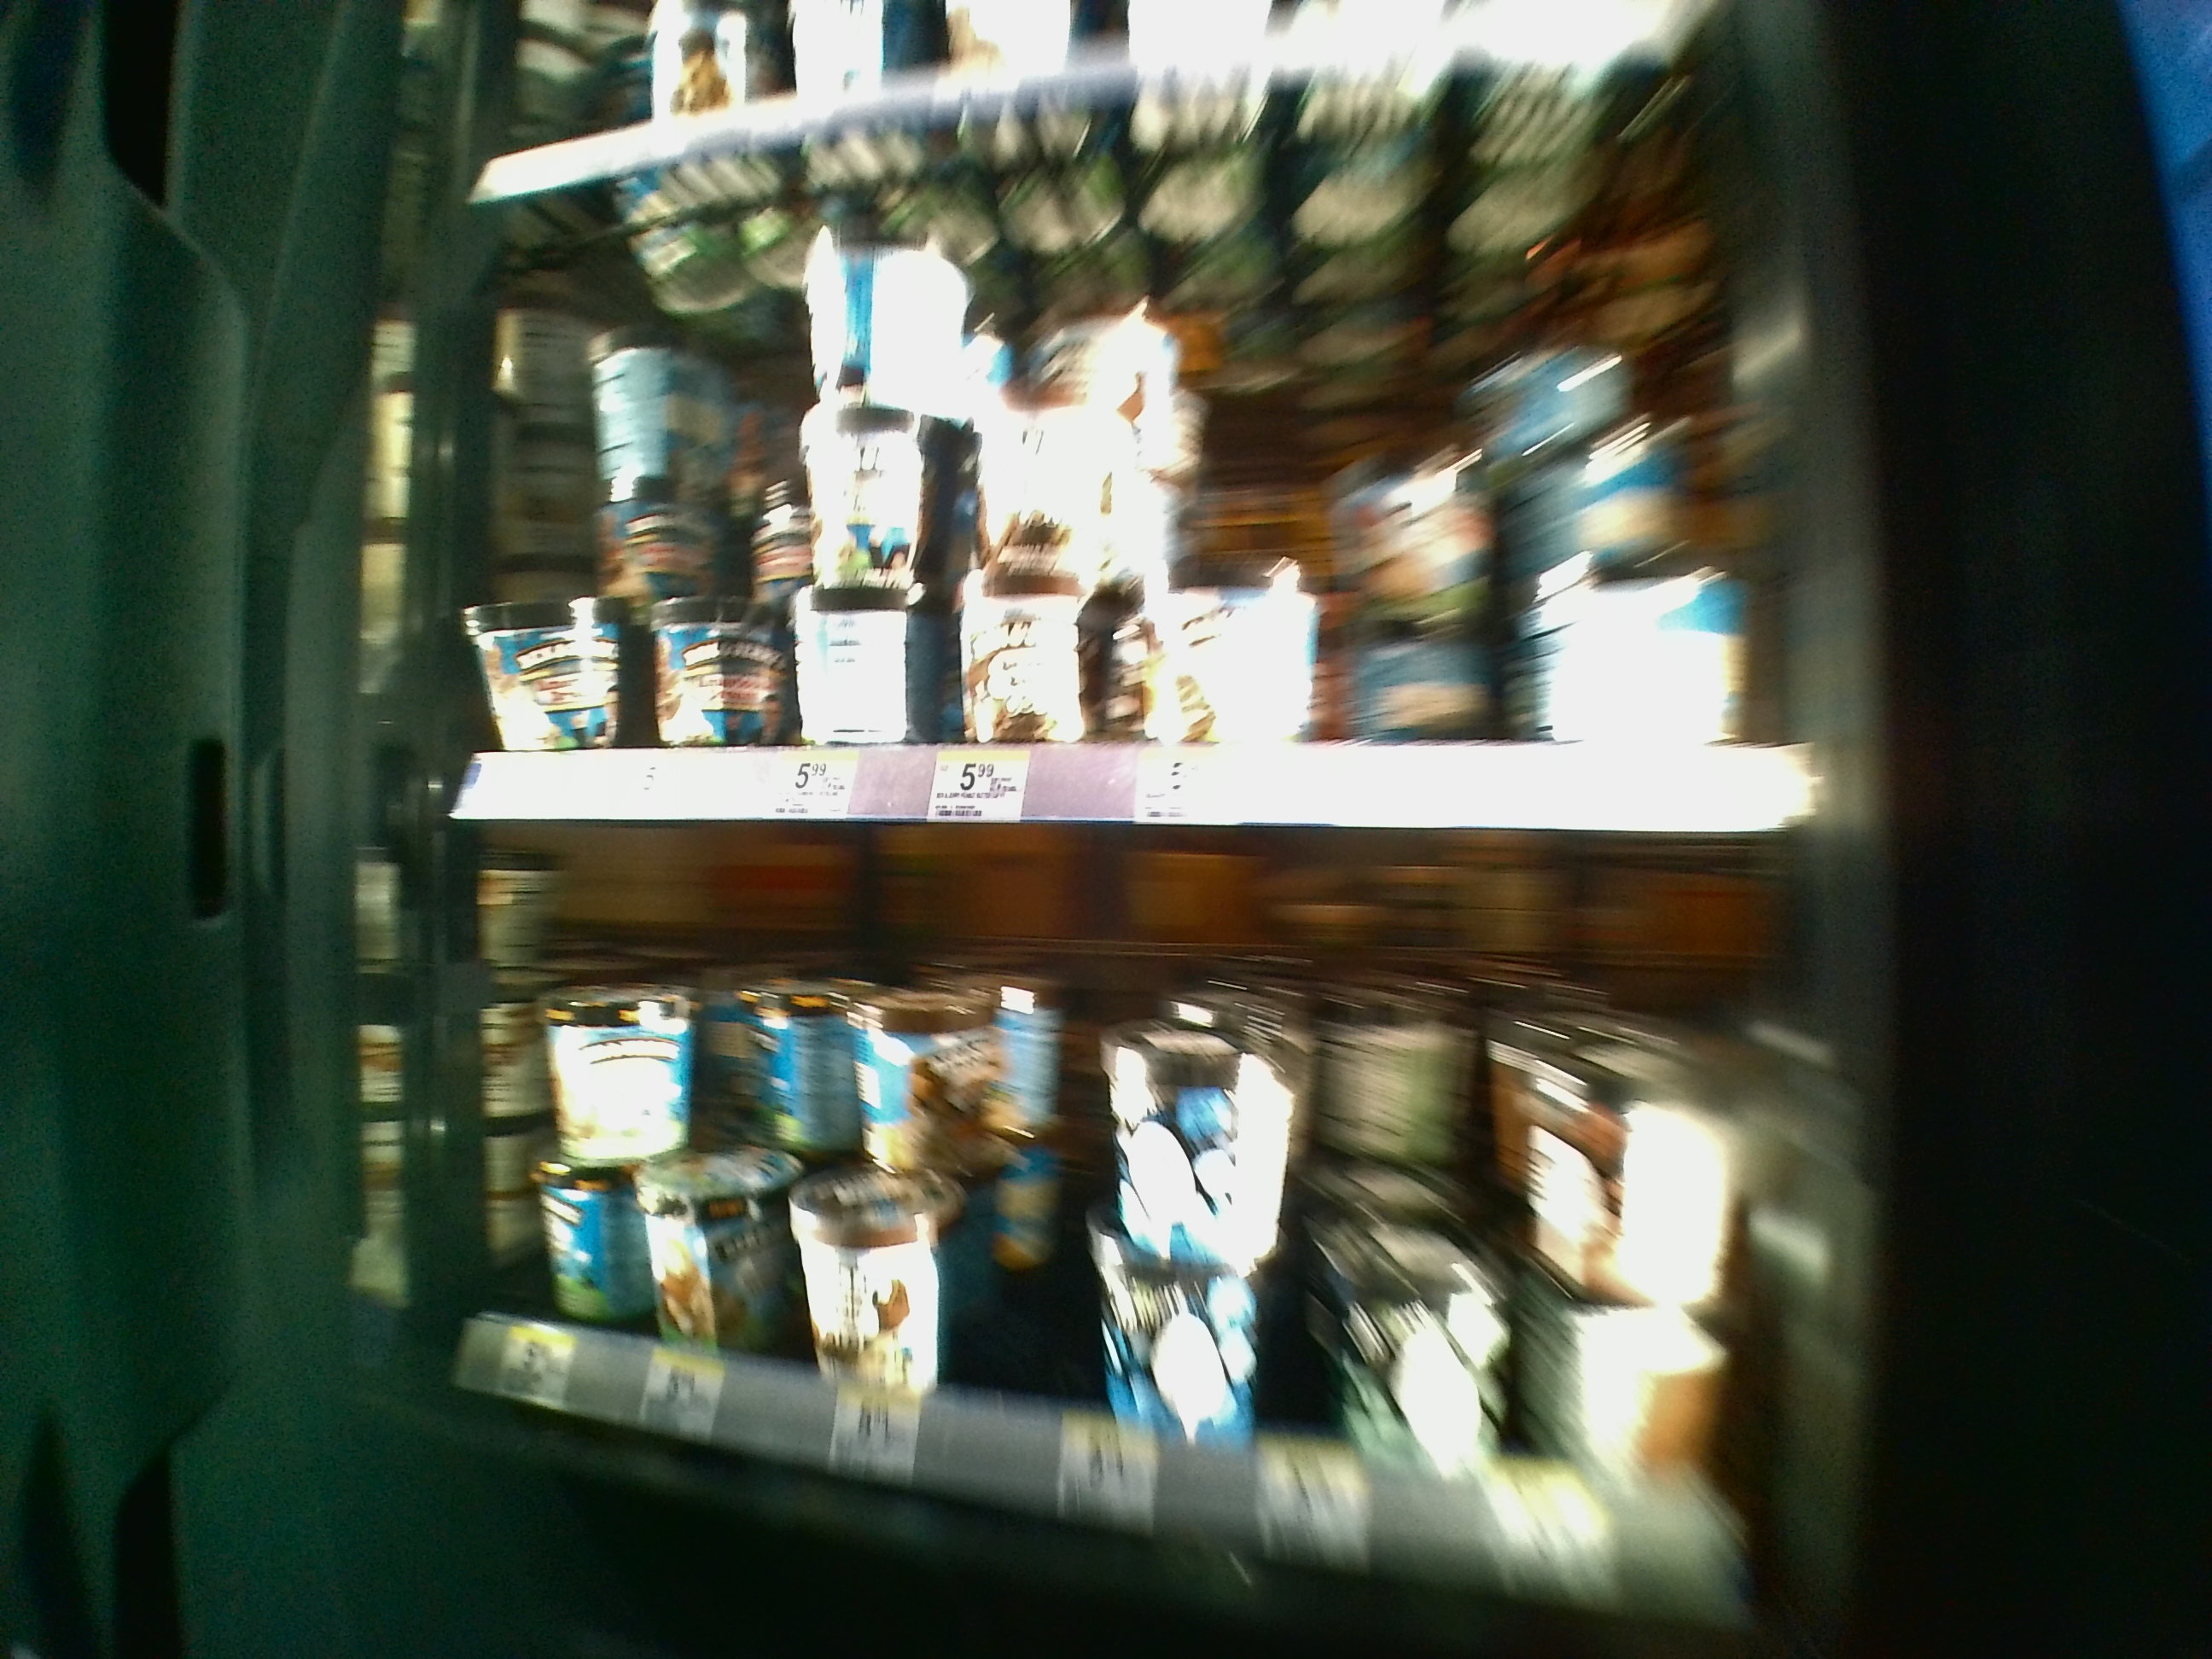shelf: (441, 849, 1785, 1617)
